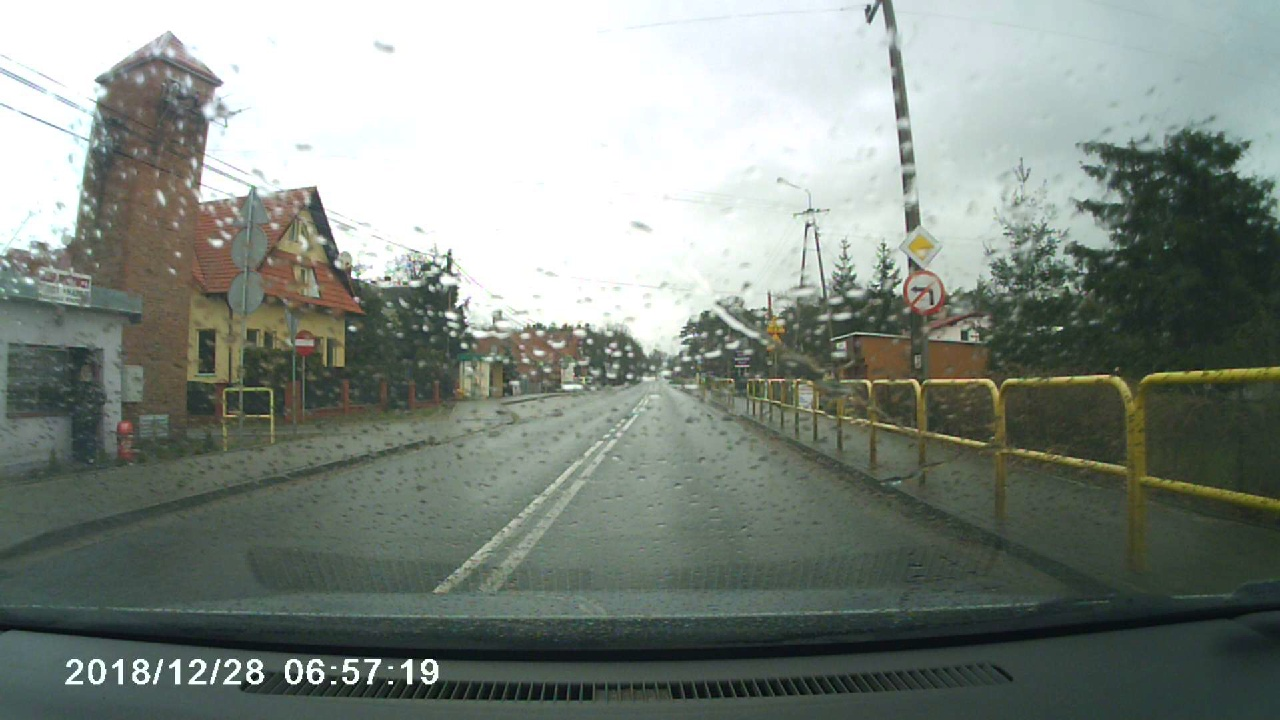B2: (287, 324, 319, 354)
B21: (900, 266, 950, 314)
D1: (896, 219, 945, 268)
